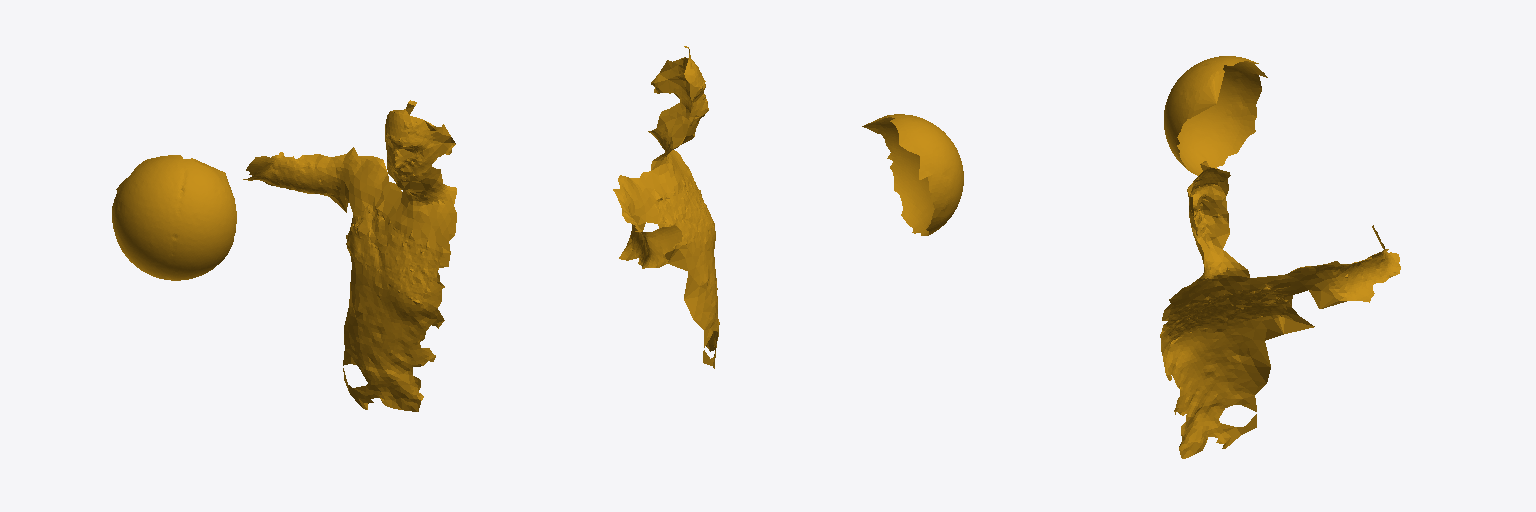
The model's file is LargeSphere_tangential_02.000035.0708.obj.
3 renders of one model, left to right at view 1: azimuth 30°, elevation 25°; view 2: azimuth 150°, elevation 25°; view 3: azimuth 270°, elevation 25°, orthographic.
Parts seen in each view (by area): view 1: result/LargeSphere_tangential_02.000035.0708; view 2: result/LargeSphere_tangential_02.000035.0708; view 3: result/LargeSphere_tangential_02.000035.0708.
Part boxes in pixels (x1,y1,x2,y2): result/LargeSphere_tangential_02.000035.0708: (112,100,456,411); result/LargeSphere_tangential_02.000035.0708: (613,46,963,368); result/LargeSphere_tangential_02.000035.0708: (1160,56,1400,458).
Size of the model in its own units: 865 by 784 by 560.